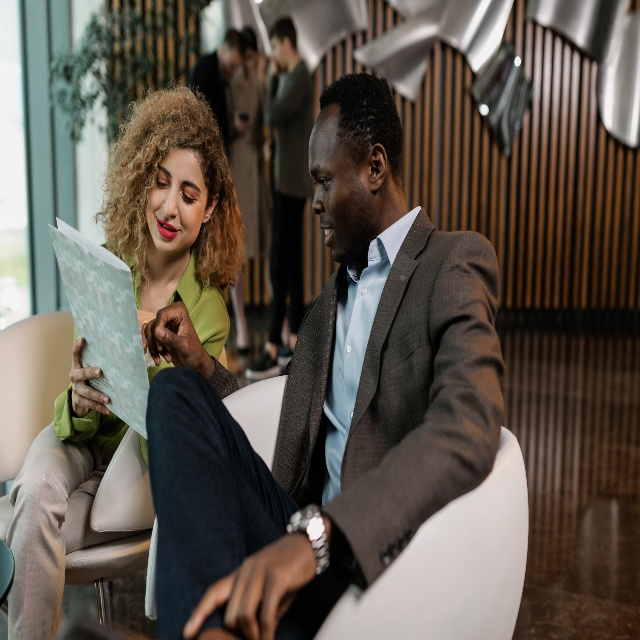Sin_guantes: (182, 530, 319, 640), (141, 302, 203, 370), (68, 335, 110, 416), (234, 109, 251, 130), (262, 139, 272, 162)
